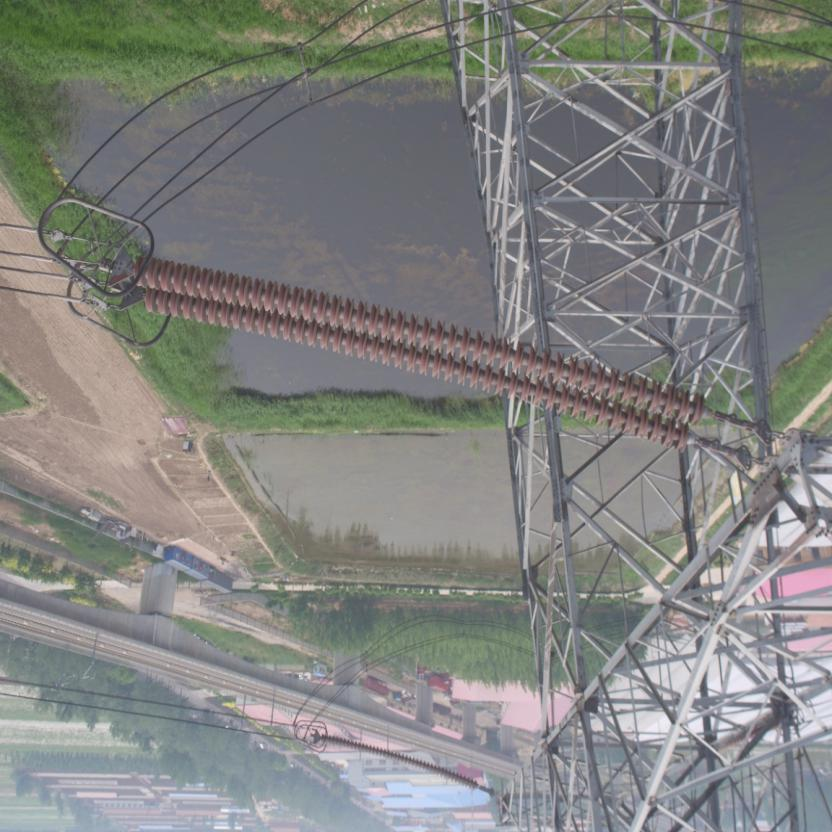insulator: (125, 254, 734, 458), (316, 734, 492, 794)
